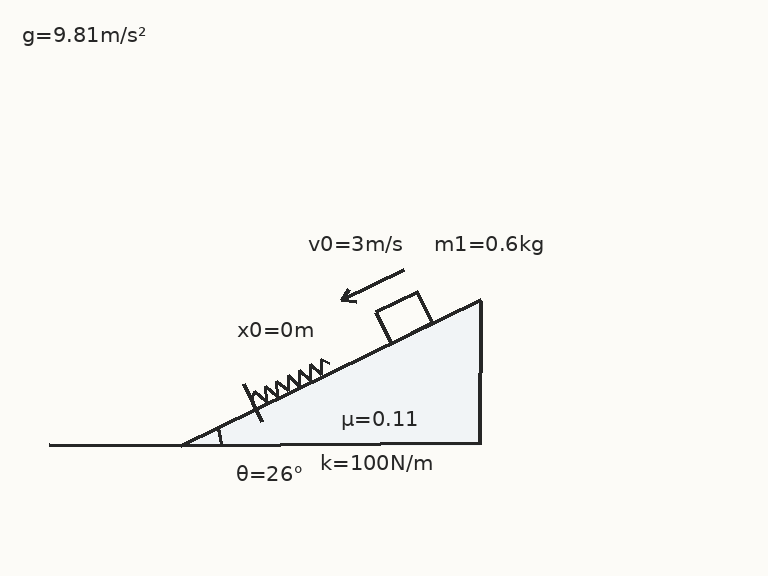block: (373, 290, 434, 345)
ramp: (179, 297, 481, 447)
spring: (250, 357, 331, 403)
